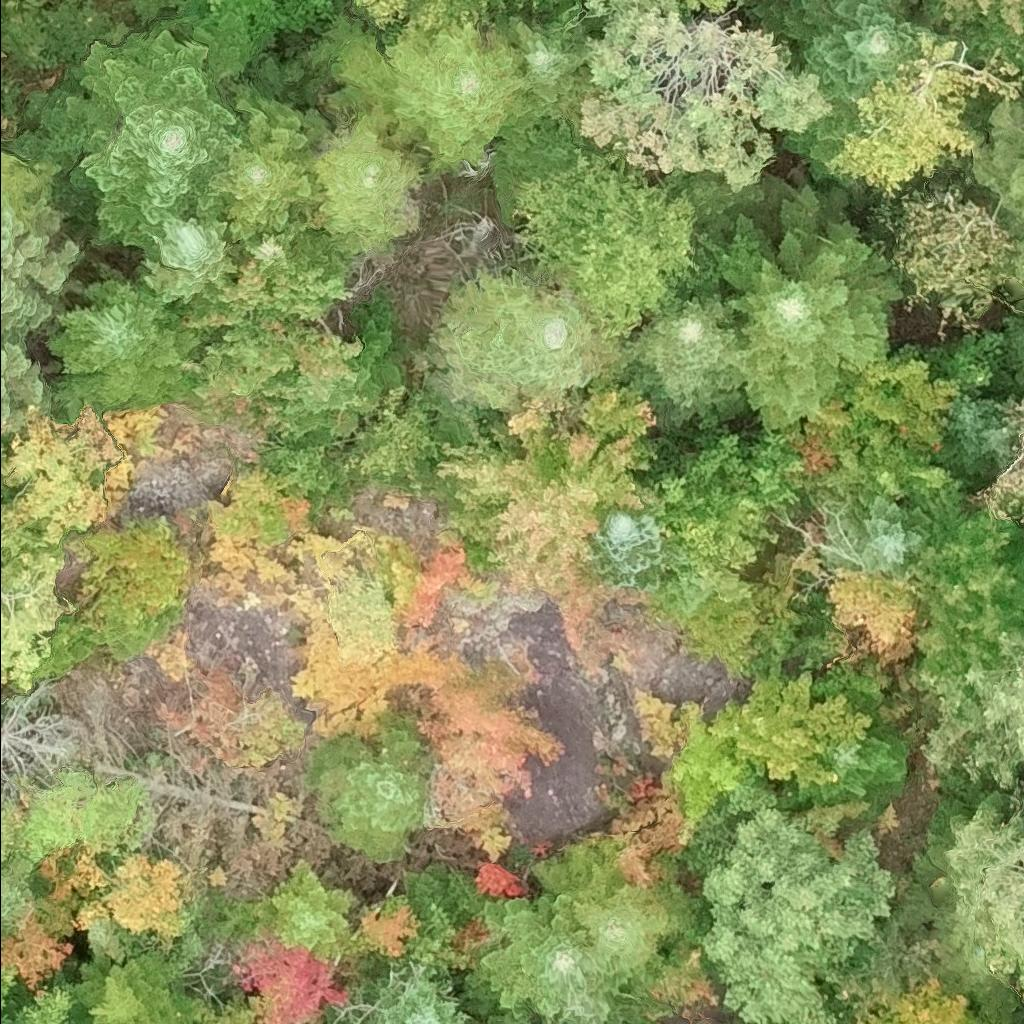crown: (5, 22, 241, 250), (573, 0, 831, 194), (714, 180, 910, 434), (436, 374, 665, 591), (690, 787, 899, 1023), (510, 147, 729, 341), (304, 13, 531, 177), (416, 264, 633, 417), (402, 659, 564, 860), (180, 254, 364, 424), (829, 24, 1008, 188), (780, 0, 933, 175), (528, 832, 707, 980), (459, 891, 654, 1023), (636, 422, 807, 568), (41, 267, 205, 419), (199, 56, 326, 243), (908, 482, 1023, 674), (278, 287, 414, 448), (706, 664, 875, 783), (926, 795, 1023, 1001), (301, 715, 432, 862), (625, 283, 751, 432), (910, 633, 1023, 789), (886, 196, 1016, 329), (345, 385, 500, 496), (305, 103, 425, 244), (804, 419, 957, 518), (752, 717, 907, 814), (489, 11, 593, 138), (129, 196, 239, 310), (661, 701, 755, 830), (0, 204, 86, 334), (253, 857, 361, 958), (971, 95, 1023, 303), (235, 934, 351, 1023), (322, 962, 490, 1023), (232, 199, 356, 279), (70, 948, 201, 1023), (898, 0, 1023, 74), (347, 0, 586, 38), (845, 494, 939, 583), (389, 546, 494, 625), (588, 507, 677, 594), (853, 974, 995, 1023), (264, 444, 361, 513), (0, 518, 65, 610), (935, 392, 1003, 478), (0, 913, 74, 990), (89, 604, 190, 660), (0, 149, 62, 232), (975, 416, 1023, 521), (0, 338, 51, 420), (743, 0, 831, 47), (33, 620, 94, 686), (976, 406, 1023, 472), (0, 862, 36, 934), (12, 985, 80, 1023), (475, 861, 526, 898), (0, 312, 35, 345), (0, 979, 16, 1023), (0, 478, 18, 517), (682, 0, 736, 12), (0, 438, 5, 468)
